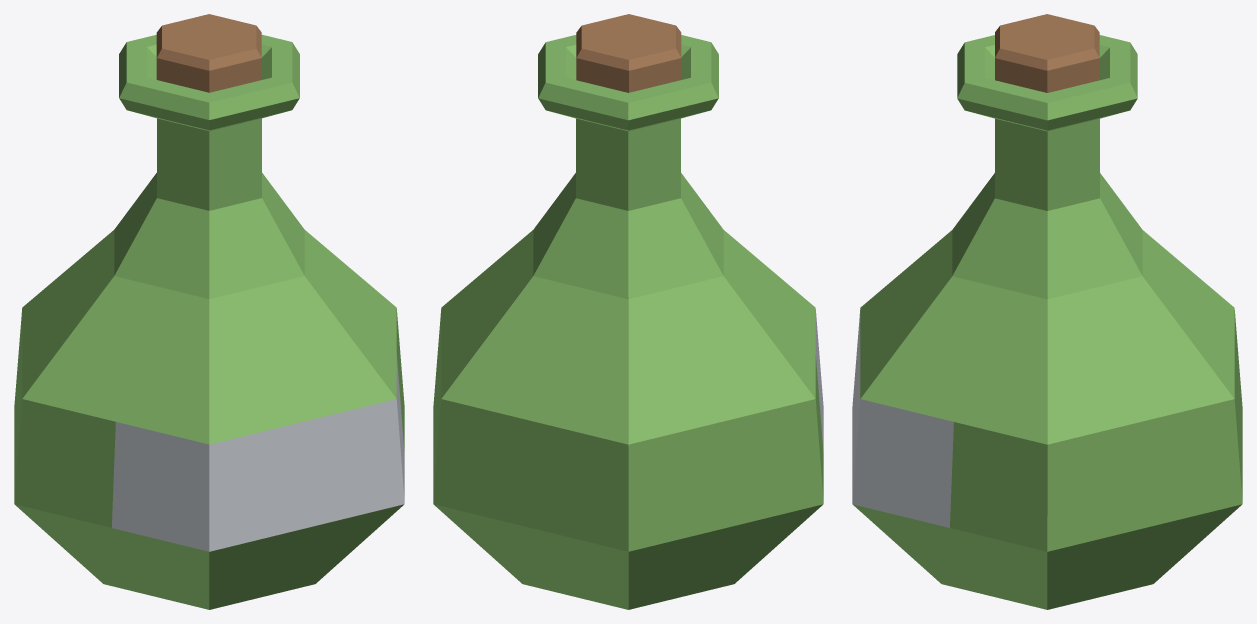
The model's file is Green_Potion_3(Label).fbx.
The picture shows the model from 3 angles, left to right: view 1: azimuth 30°, elevation 25°; view 2: azimuth 150°, elevation 25°; view 3: azimuth 270°, elevation 25°; orthographic projection.
Parts seen in each view (by area): view 1: Green_Potion_3(Label); view 2: Green_Potion_3(Label); view 3: Green_Potion_3(Label).
Part boxes in pixels (bbox=[...]): Green_Potion_3(Label): bbox=[14, 14, 404, 609]; Green_Potion_3(Label): bbox=[433, 14, 823, 609]; Green_Potion_3(Label): bbox=[852, 14, 1242, 609].
Size of the model in its own units: 21.88 by 27.9 by 18.95.
